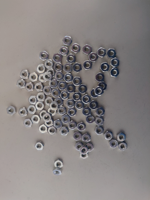nut: (110, 68, 120, 78), (111, 58, 121, 68), (83, 61, 93, 71), (63, 36, 73, 46), (43, 72, 53, 82), (66, 84, 76, 94), (29, 72, 39, 82), (89, 52, 98, 63), (72, 43, 81, 54), (107, 49, 117, 58), (100, 63, 110, 72), (96, 73, 105, 83), (83, 45, 92, 55), (67, 54, 76, 64), (73, 63, 82, 73), (40, 51, 49, 61), (53, 53, 62, 63), (72, 93, 82, 102), (78, 85, 88, 94), (27, 106, 37, 115), (7, 106, 16, 116), (35, 102, 45, 111), (64, 63, 73, 73), (72, 77, 82, 86), (54, 72, 64, 81), (64, 74, 74, 83), (58, 82, 68, 91), (60, 91, 70, 100), (49, 79, 58, 89), (54, 63, 64, 72), (37, 64, 46, 74), (34, 83, 44, 92), (35, 142, 44, 151), (82, 134, 91, 143), (73, 132, 82, 141), (60, 127, 69, 136), (96, 117, 105, 126), (77, 123, 86, 132), (96, 108, 105, 117), (75, 143, 84, 152), (23, 119, 32, 128), (68, 108, 77, 117), (31, 115, 40, 124), (95, 87, 104, 96), (90, 89, 99, 98), (60, 47, 69, 56), (82, 95, 91, 104), (66, 99, 75, 108), (50, 102, 59, 111), (39, 110, 48, 119), (28, 96, 37, 105), (37, 93, 46, 102), (51, 89, 60, 98), (43, 86, 52, 95), (45, 60, 54, 69), (20, 70, 29, 79), (17, 80, 26, 89), (25, 83, 34, 92), (98, 48, 106, 58), (105, 131, 113, 141), (83, 107, 91, 117), (43, 113, 51, 123), (58, 106, 66, 116), (118, 133, 126, 142), (119, 143, 128, 151), (95, 127, 104, 135), (80, 147, 89, 155), (69, 121, 77, 130), (87, 115, 95, 124), (54, 120, 62, 129), (39, 125, 47, 134), (90, 101, 98, 110), (62, 115, 70, 124), (99, 82, 107, 91), (76, 101, 84, 110), (48, 108, 57, 116), (19, 108, 27, 117), (55, 98, 63, 107), (45, 97, 53, 106), (64, 64, 72, 73), (47, 69, 55, 78), (39, 74, 47, 83), (110, 140, 118, 148), (86, 144, 94, 152), (48, 127, 56, 135), (53, 169, 62, 176), (55, 161, 63, 168), (80, 154, 89, 160), (45, 121, 53, 127)
